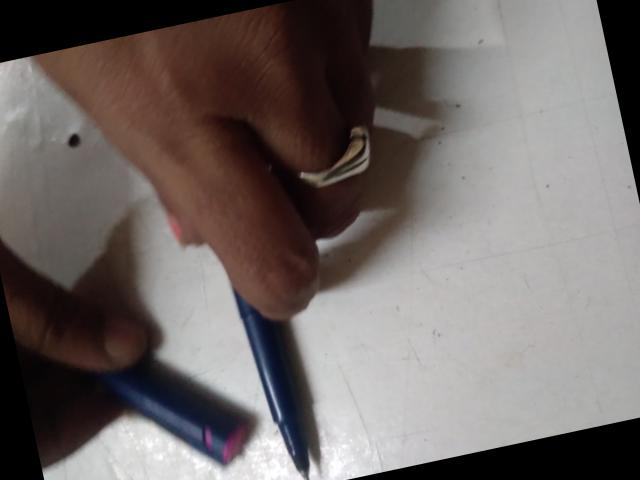PEN: (0, 114, 251, 360)
